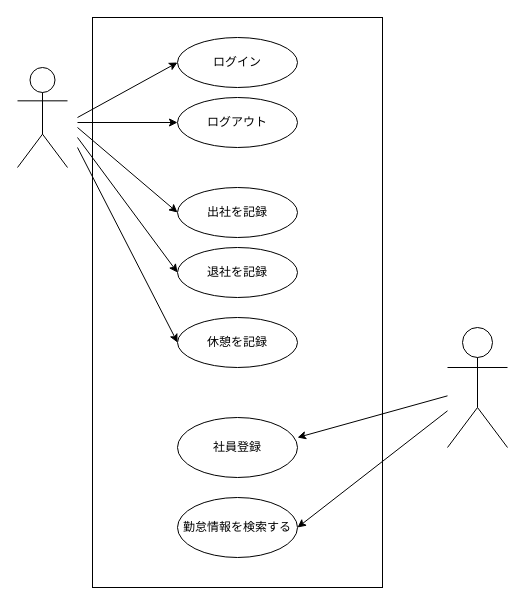
Some shapes in this 525 by 605 pixel diagram are drawn without their labels. The box of each missing label's shape, as (x1, y1, x2, y2) in pixels:
従業員: (16, 66, 68, 168)
管理者: (446, 326, 508, 448)
